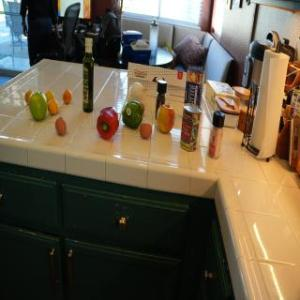bell_pepper: (95, 107, 120, 141), (121, 101, 143, 127)
egg: (54, 116, 68, 136), (140, 124, 152, 142)
onion: (126, 81, 146, 105)
